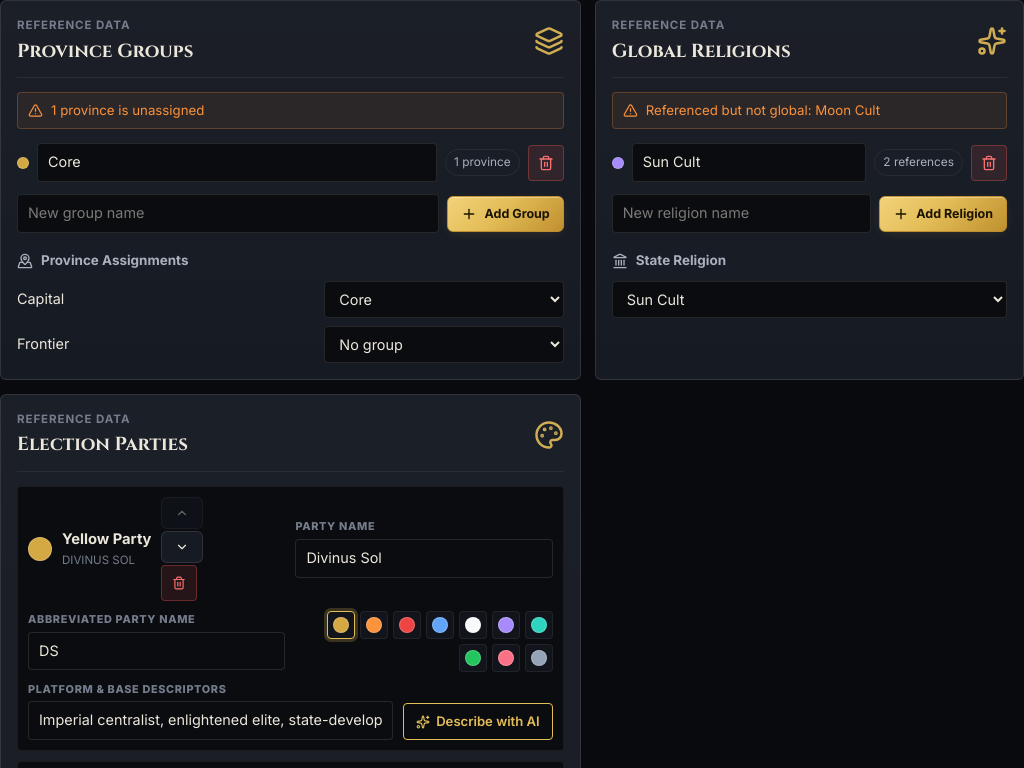
it: ReferenceDataSection › edits election party names, abbreviations, and palette colors as reference data
Replace the text in the field named "yellow party name" with "Imperial Agrarians" at (424,558), box [295,539,553,578]
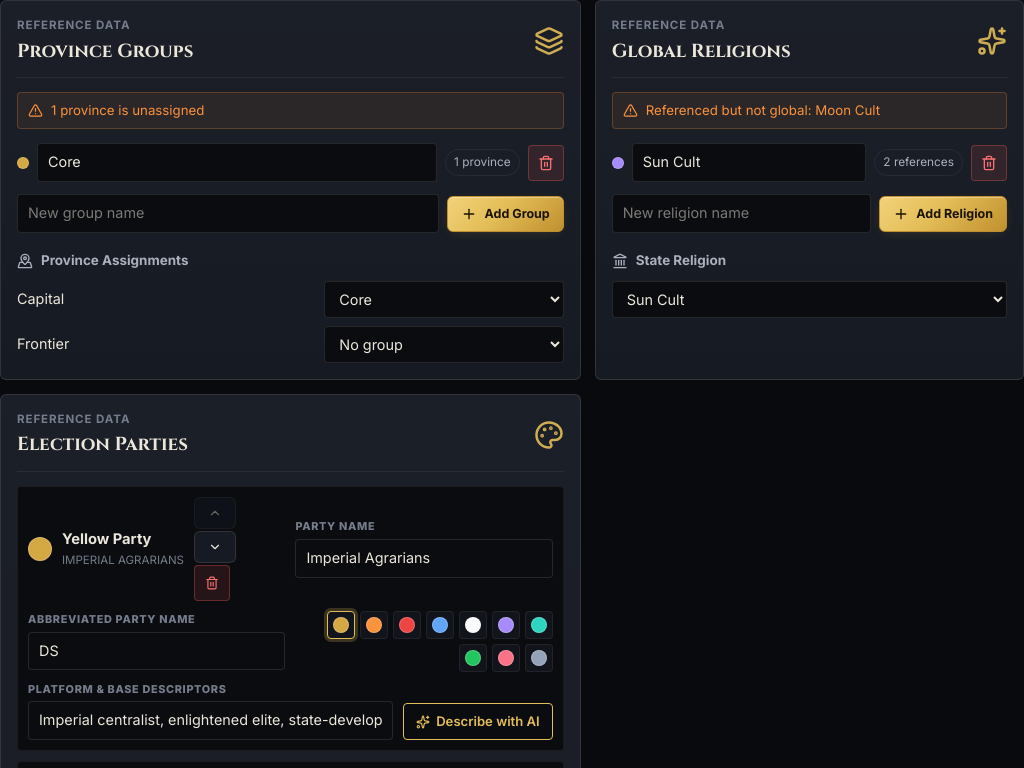
Replace the text in the field named "yellow abbreviated party name" with "IA" at (157,651), box [28,632,285,670]
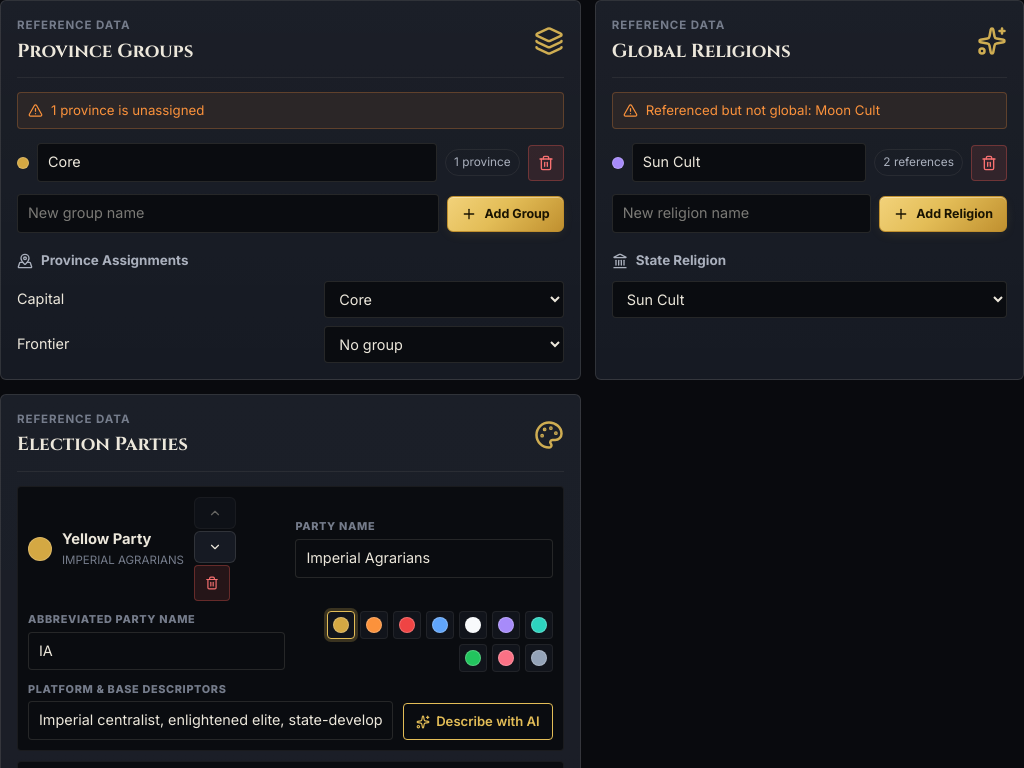
Click the button named "Teal Party" at (539,624), box [525,610,553,638]
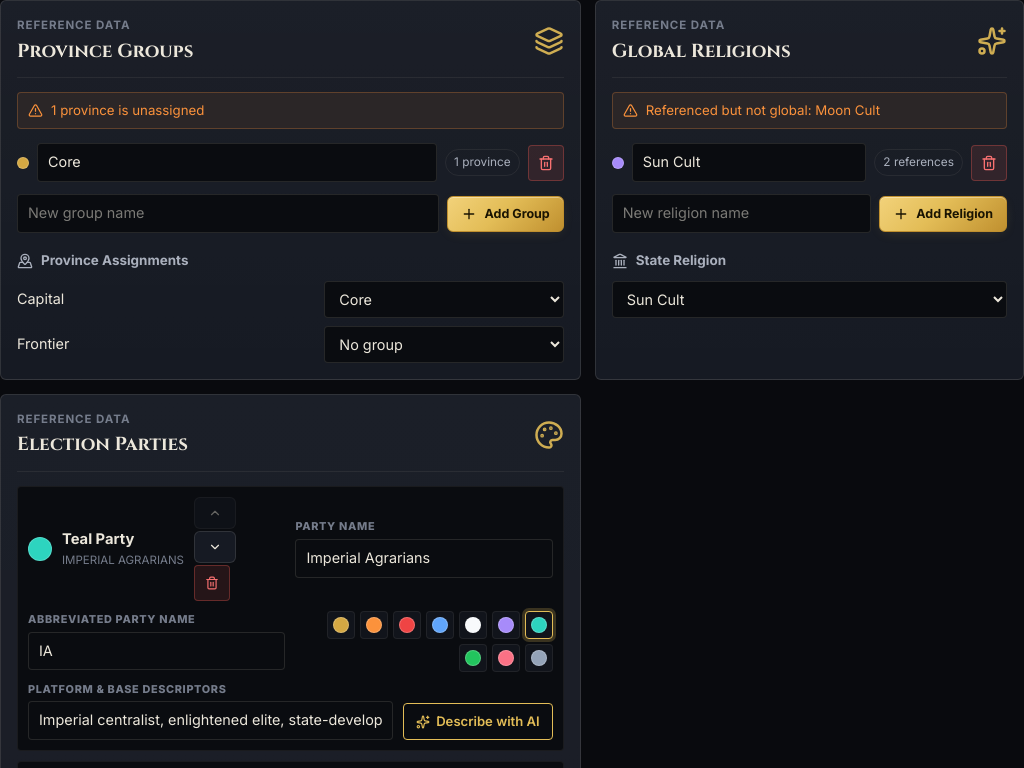
Expected: the text "Teal Party" is shown, [62,530,134,548]
